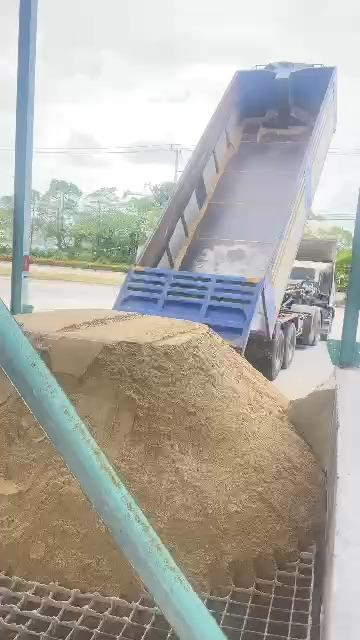sand: (19, 311, 323, 590), (0, 375, 139, 596), (287, 376, 336, 474)
